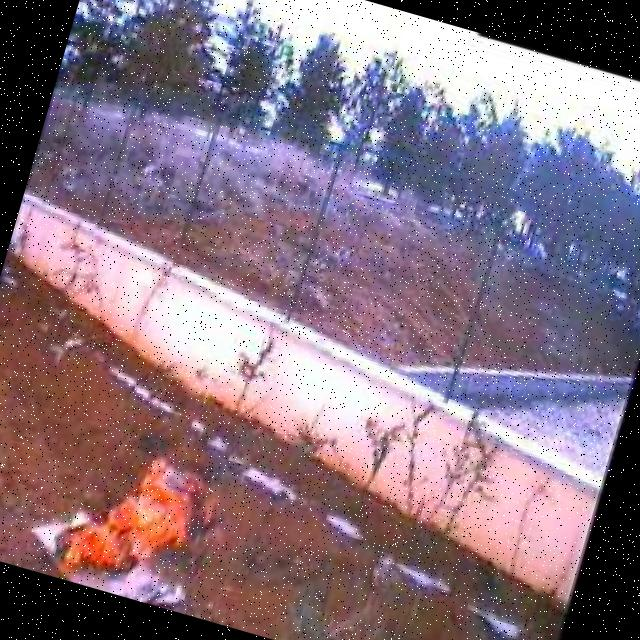fire: (44, 436, 225, 614)
